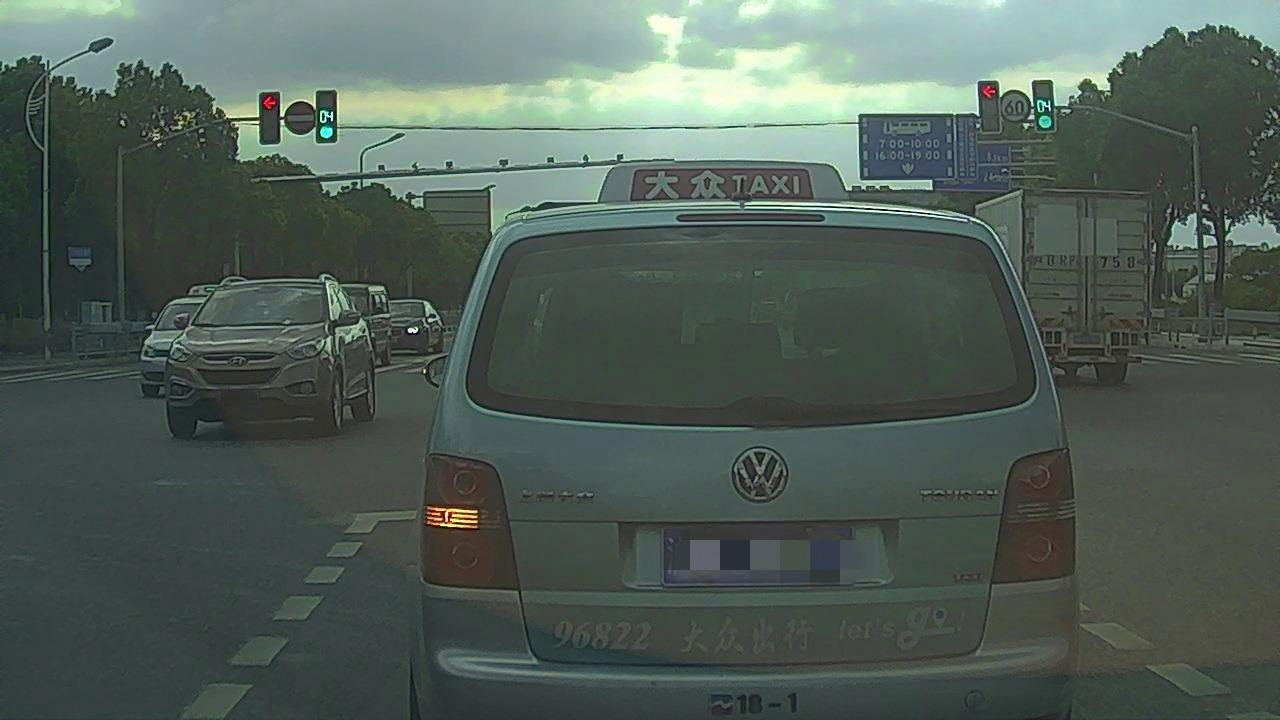traffic_light: (314, 91, 338, 141), (979, 81, 1000, 133), (260, 93, 280, 144), (1035, 81, 1053, 130)
